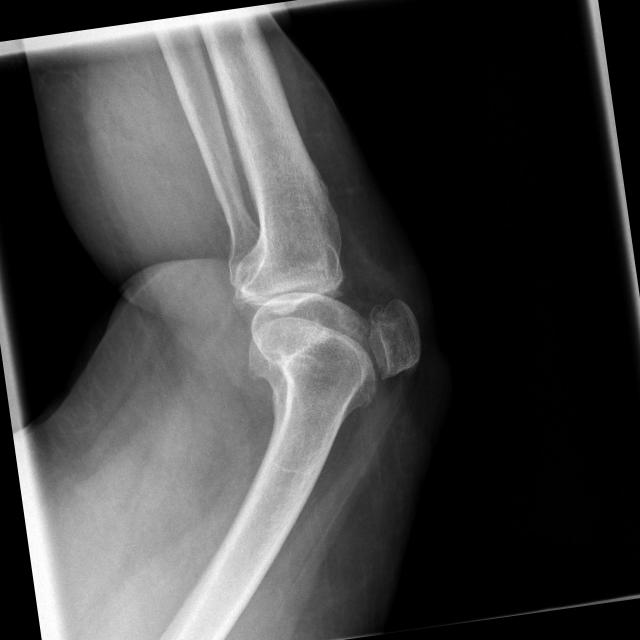Knee: (226, 218, 434, 418)
